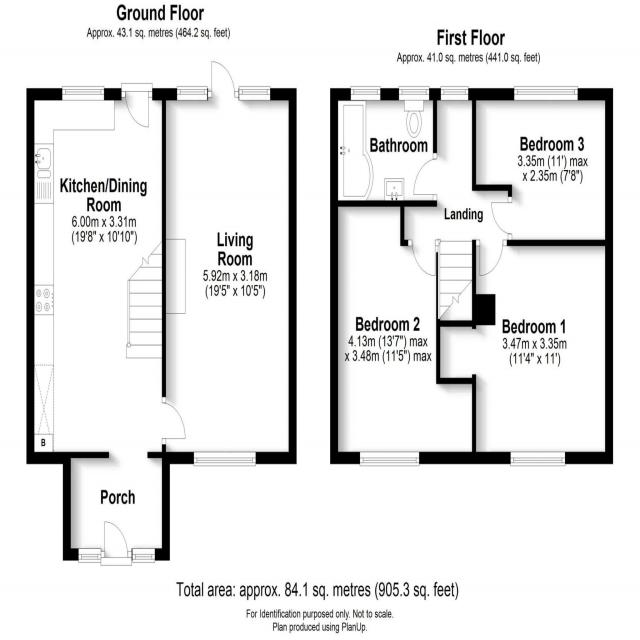DOOR: (121, 82, 153, 128), (475, 239, 508, 277), (207, 60, 240, 98), (161, 396, 186, 446), (413, 151, 437, 201), (407, 240, 439, 277), (490, 195, 512, 241)
ROOM: (26, 83, 186, 465), (162, 60, 297, 467), (436, 239, 613, 467), (330, 200, 476, 467), (472, 85, 613, 246)
WINDOW: (513, 85, 578, 102), (359, 450, 420, 467), (193, 451, 257, 467), (509, 451, 566, 467), (62, 85, 105, 101), (398, 85, 430, 101), (238, 86, 271, 101), (176, 86, 208, 101), (350, 86, 381, 101), (440, 85, 469, 101)
